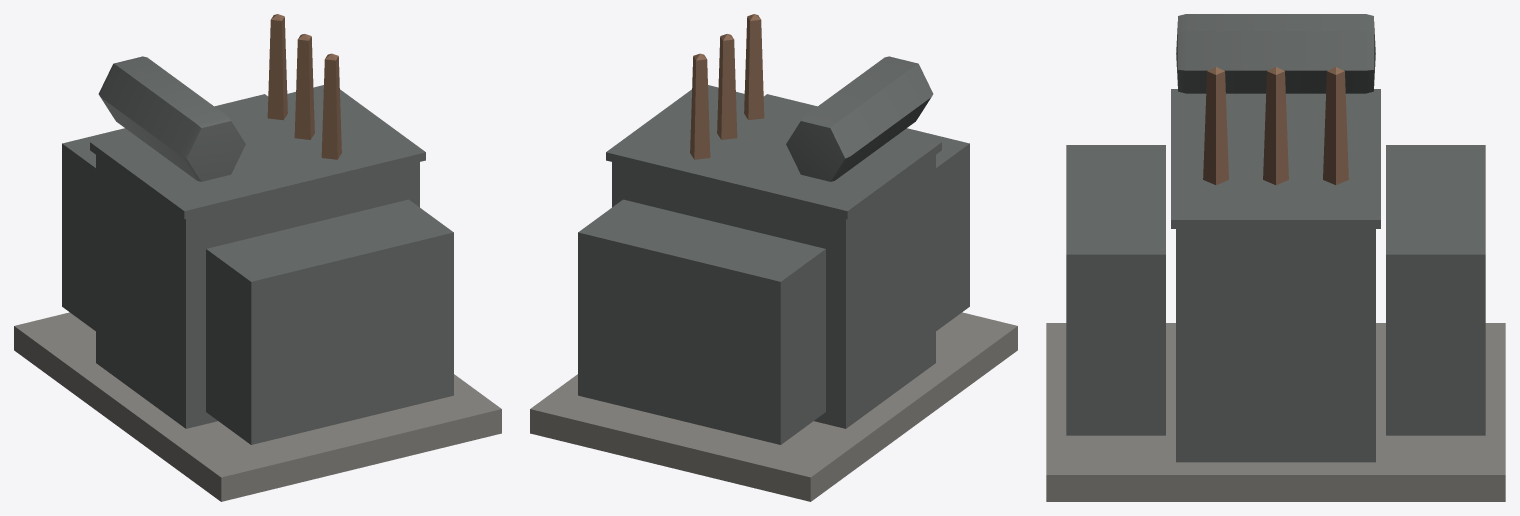
Rendered from SM_Prop_power_transformer_0_LOD2.glb.
3 renders of one model, left to right at view 1: azimuth 30°, elevation 25°; view 2: azimuth 150°, elevation 25°; view 3: azimuth 270°, elevation 25°, orthographic. The views are drawn at different scales.
Visible parts, largest first — view 1: SM_Prop_power_transformer_0_LOD2; view 2: SM_Prop_power_transformer_0_LOD2; view 3: SM_Prop_power_transformer_0_LOD2.
Boxes of the visible parts, x1,y1,x2,y2 form: SM_Prop_power_transformer_0_LOD2: (14,14,501,501); SM_Prop_power_transformer_0_LOD2: (530,14,1017,501); SM_Prop_power_transformer_0_LOD2: (1046,14,1505,501).
Size of the model in its own units: 3.6 by 4.25 by 4.6.
